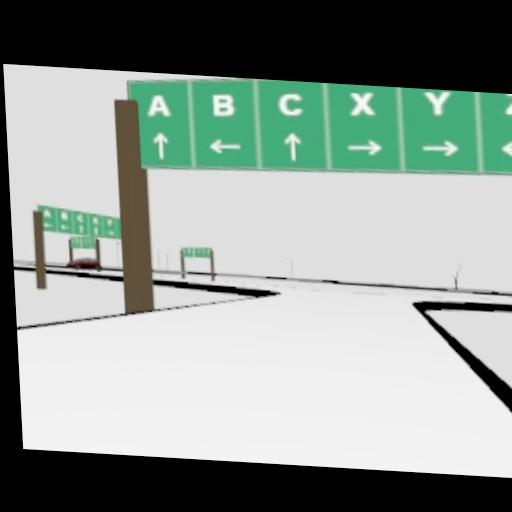A: (146, 92, 169, 116)
B: (211, 90, 234, 116)
C: (277, 89, 304, 115)
Left: (206, 136, 243, 153), (498, 139, 512, 157)
Right: (420, 137, 459, 156), (346, 136, 383, 155)
Straight: (282, 131, 301, 159), (152, 130, 168, 158)
X: (349, 90, 376, 114)
Y: (423, 88, 451, 115)
Z: (503, 93, 512, 113)
